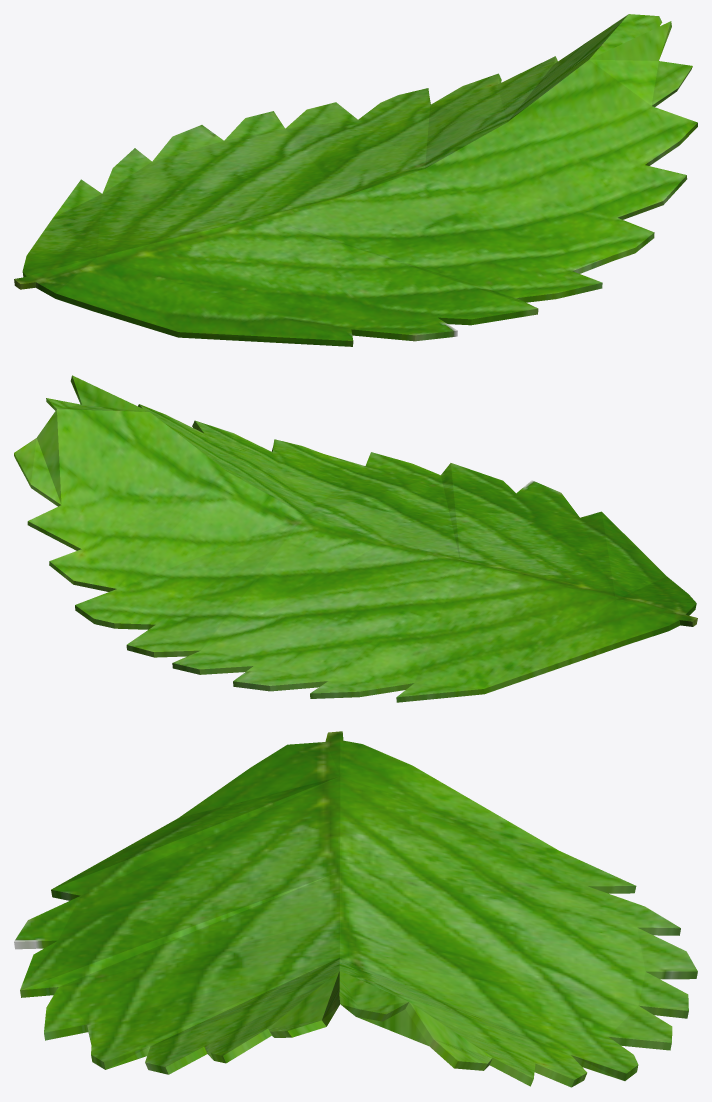
File: leaf2.dae
The picture shows the model from 3 angles, top to bottom: view 1: azimuth 30°, elevation 25°; view 2: azimuth 150°, elevation 25°; view 3: azimuth 270°, elevation 25°; orthographic projection. The views are drawn at different scales.
Visible parts, largest first — view 1: Plane; view 2: Plane; view 3: Plane.
Part boxes in pixels (x1,y1,x2,y2): Plane: (14,14,697,346); Plane: (14,375,697,702); Plane: (14,731,697,1087).
Size of the model in its own units: 0.1377 by 0.1018 by 0.0278.
Materials: 1 (1 with a texture image).
